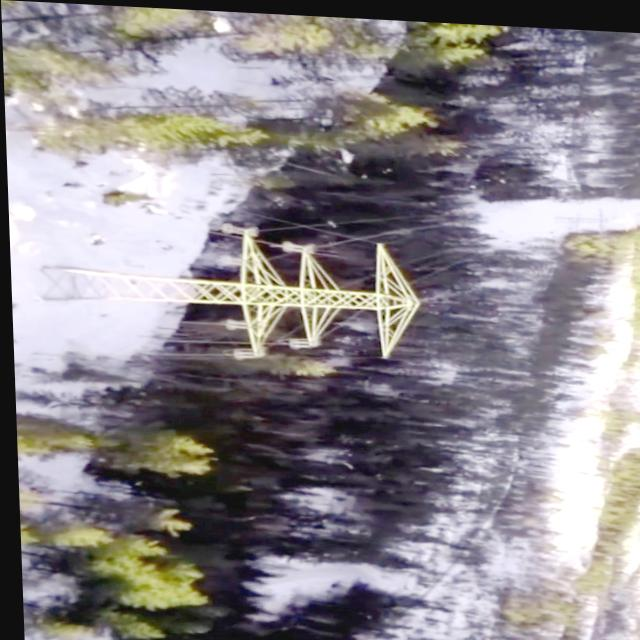poles: (43, 226, 416, 356)
wires: (317, 219, 437, 244), (408, 259, 456, 277)
